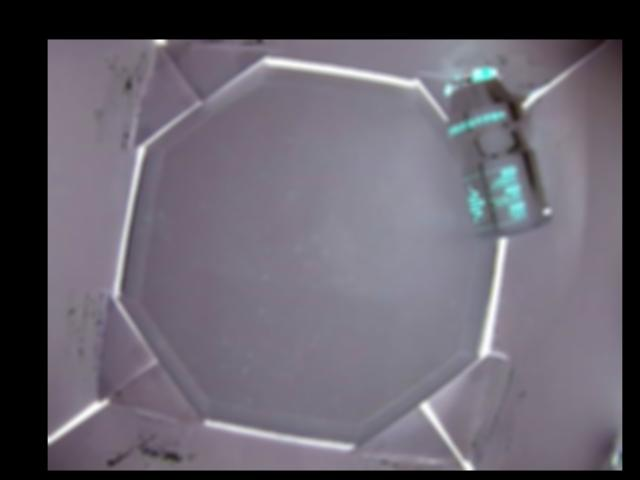Bottle: (440, 61, 553, 243)
